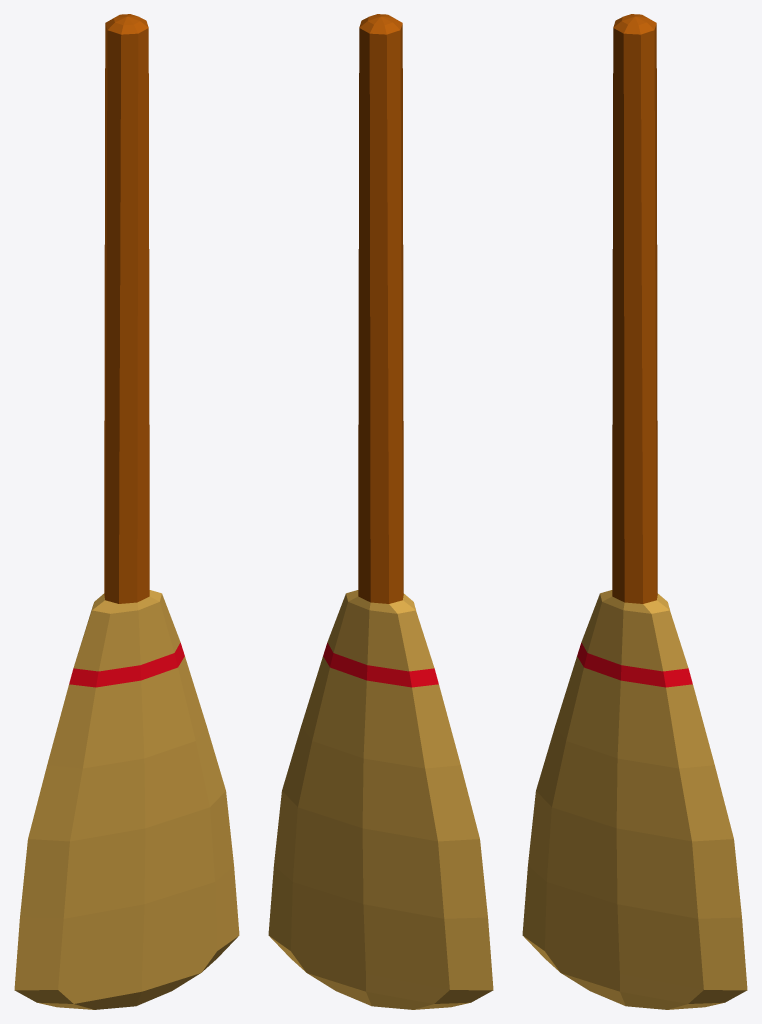
Rendered from Vasoura.fbx.
3 renders of one model, left to right at view 1: azimuth 30°, elevation 25°; view 2: azimuth 150°, elevation 25°; view 3: azimuth 330°, elevation 25°, orthographic.
Parts seen in each view (by area): view 1: Vasoura; view 2: Vasoura; view 3: Vasoura.
Part boxes in pixels (left/top/right/bottom): Vasoura: left=14, top=14, right=239, bottom=1009; Vasoura: left=268, top=14, right=493, bottom=1009; Vasoura: left=522, top=14, right=747, bottom=1009.
Size of the model in its own units: 32.02 by 134 by 9.07.
